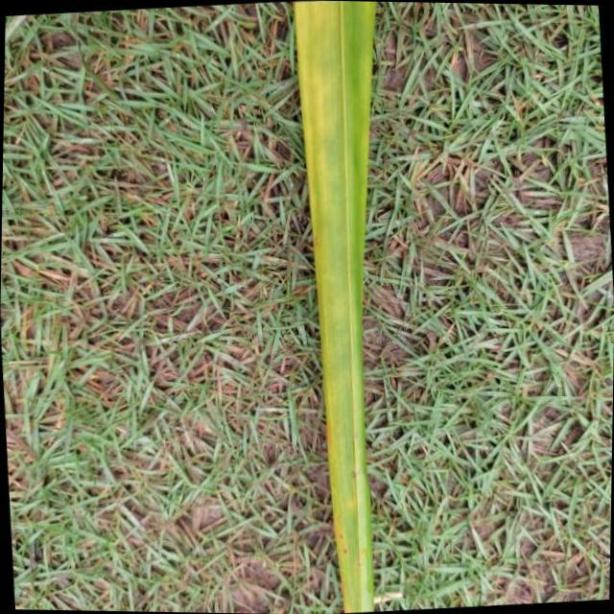nitrogen: (289, 0, 376, 614)
